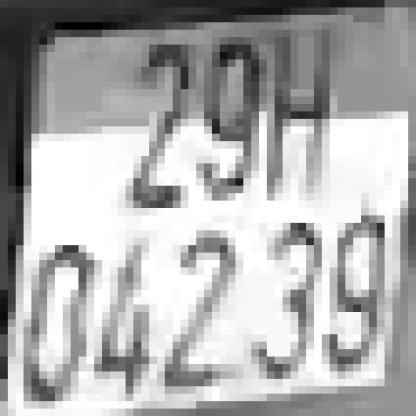0: (24, 245, 94, 401)
2: (118, 45, 188, 208), (165, 230, 220, 379)
3: (243, 216, 314, 372)
4: (94, 230, 157, 386)
9: (314, 208, 377, 364), (196, 37, 251, 193)
H: (259, 22, 322, 193)
